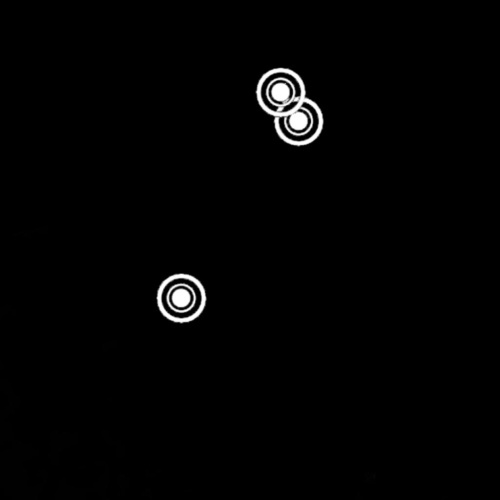canis_minor: (146, 59, 334, 335)
